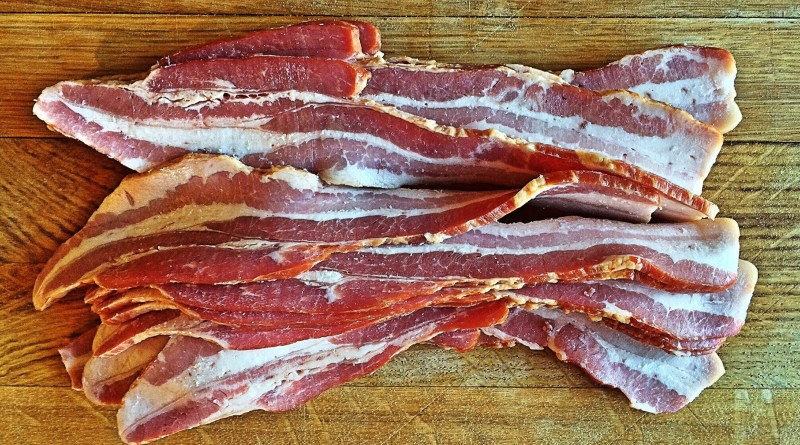bacon: (28, 24, 737, 425)
